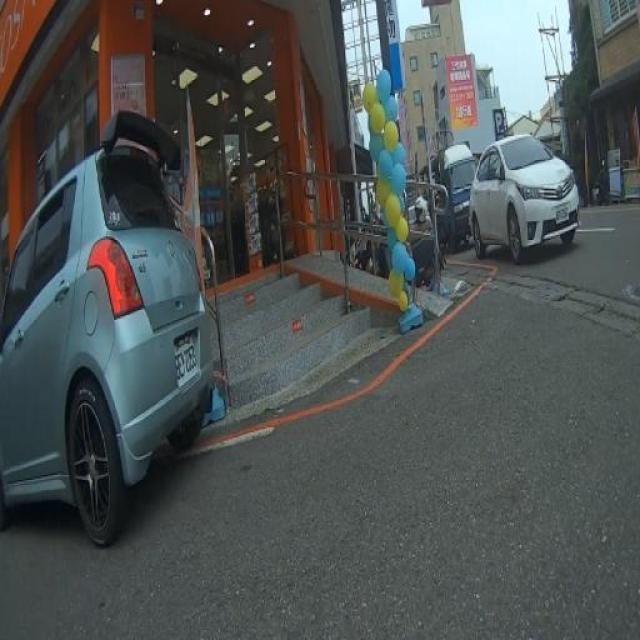Legalparking: (0, 107, 210, 537), (417, 126, 600, 280)
